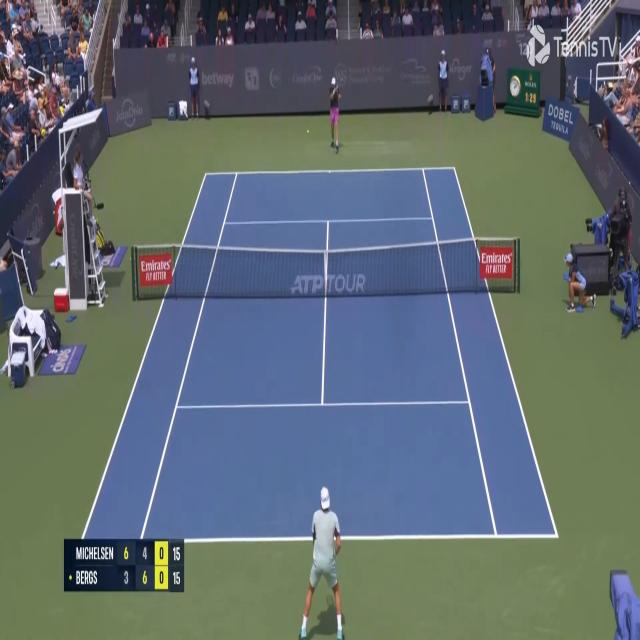tennis-player: (295, 484, 347, 640), (328, 77, 342, 154)
